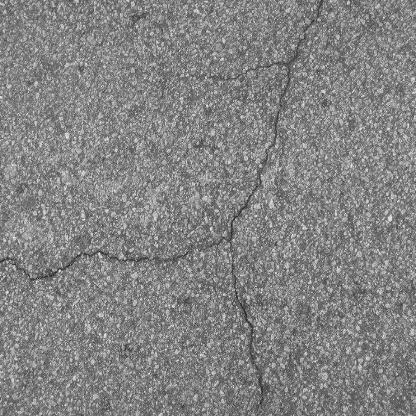Cracks: (0, 120, 281, 416), (206, 12, 323, 119), (317, 0, 327, 11)
